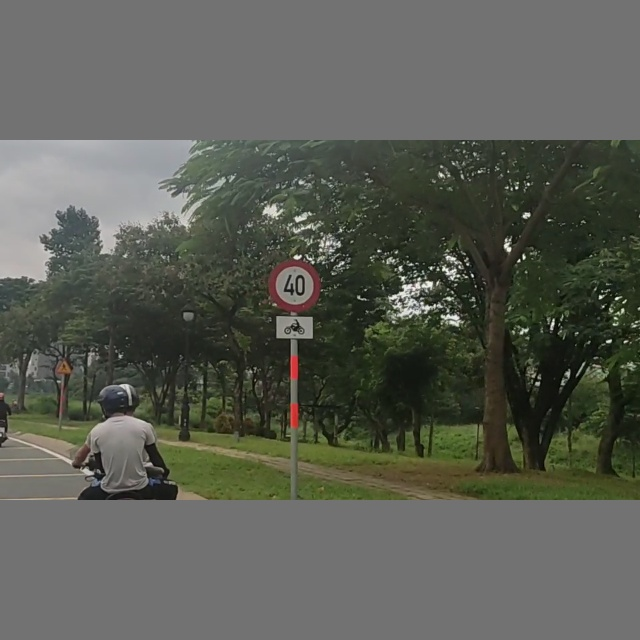P.127*40: (269, 260, 324, 311)
W.224: (56, 357, 73, 375)
